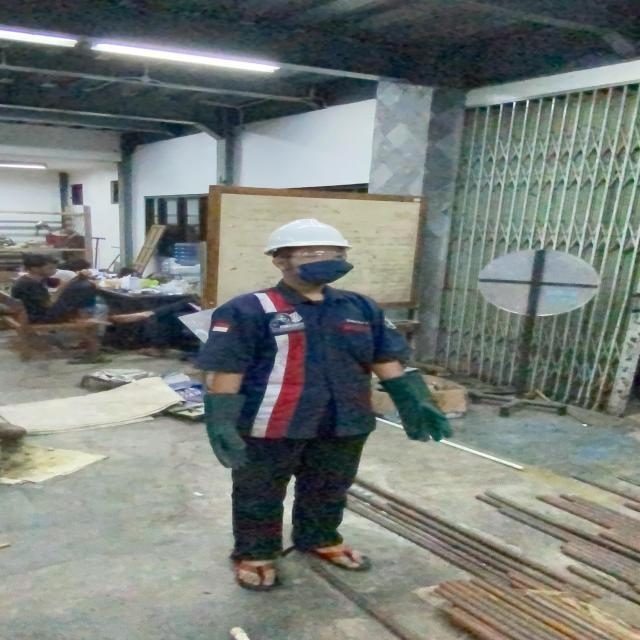glasses: (284, 247, 349, 264)
